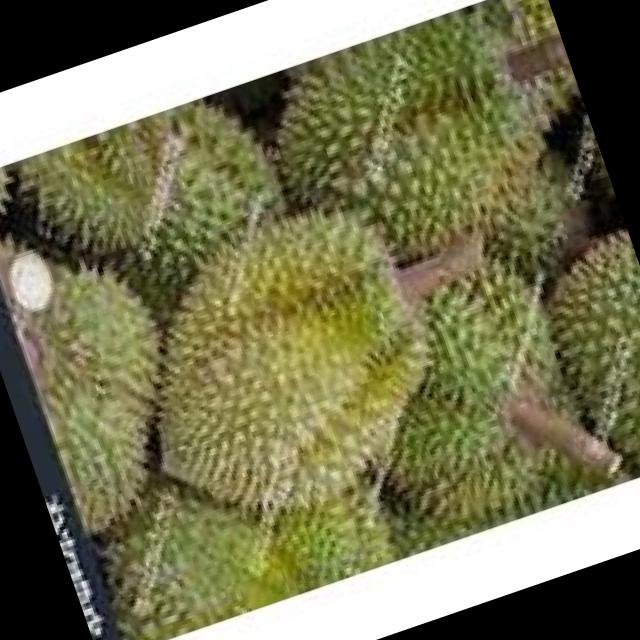fruit: (71, 158, 504, 570), (230, 0, 626, 355), (0, 229, 244, 566), (0, 77, 294, 303), (490, 201, 640, 495)
